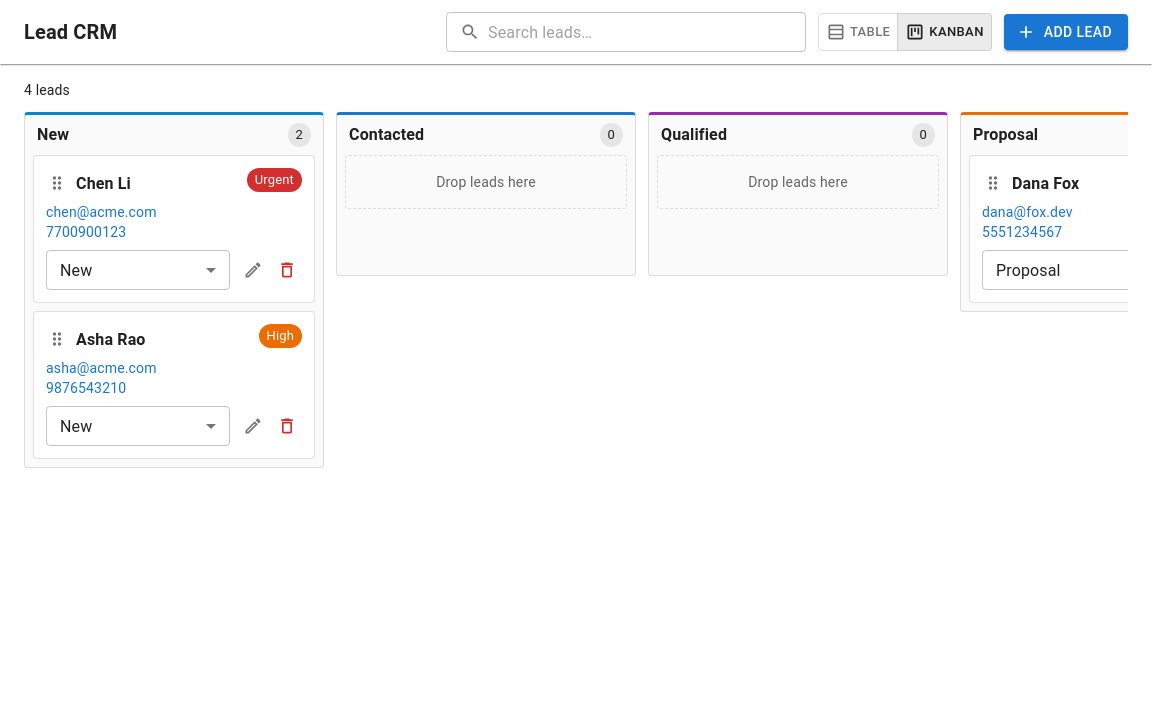
Scenario: App › changes status from kanban and shows a toast if the server rejects it
Select "Won" in the dropdown named "Status for Asha Rao" at (138, 426), box [46,406,230,446]
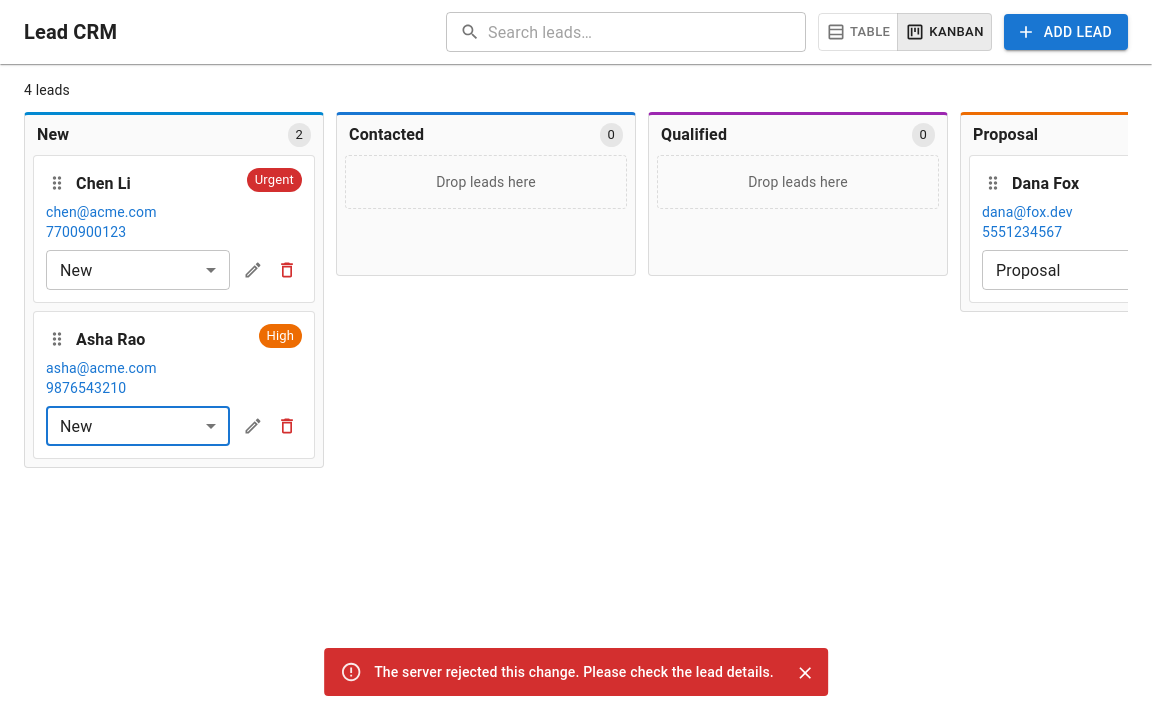
expect the text "server rejected" is shown: met, box [374,664,774,680]
